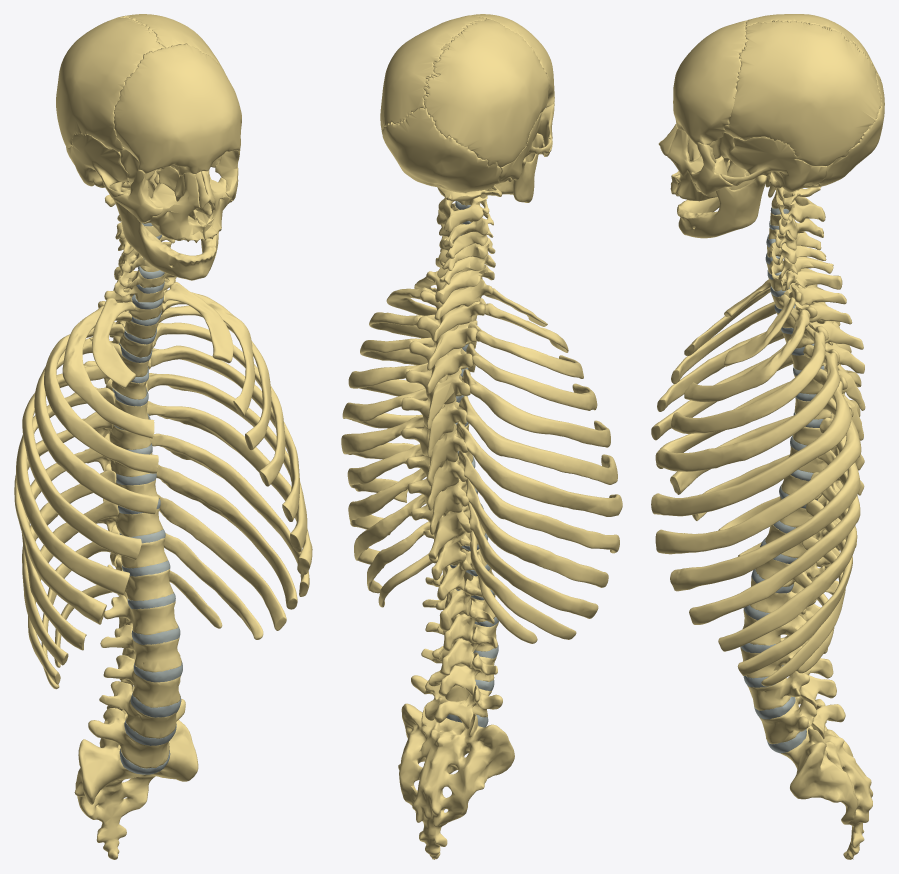
3 renders of one model, left to right at view 1: azimuth 30°, elevation 25°; view 2: azimuth 150°, elevation 25°; view 3: azimuth 270°, elevation 25°, orthographic. The views are drawn at different scales.
Parts seen in each view (by area): view 1: head-neck:frontal-bone:isa:FJ3200, head-neck:parietal-bone:isa:FJ3380, spine-trunk:sacrum:isa:FJ3393, spine-trunk:sixth-rib:isa:FJ3344, spine-trunk:fourth-rib:isa:FJ3340, spine-trunk:fifth-rib:isa:FJ3342, spine-trunk:third-rib:isa:FJ3338, spine-trunk:second-rib:isa:FJ3336, head-neck:mandible:isa:FJ3289, spine-trunk:ninth-rib:isa:FJ3236, spine-trunk:seventh-rib:isa:FJ3234, spine-trunk:seventh-rib:isa:FJ3346 (+34 smaller); view 2: head-neck:parietal-bone:isa:FJ3380, spine-trunk:sacrum:isa:FJ3393, head-neck:occiput:isa:FJ3309, head-neck:parietal-bone:isa:FJ3274, spine-trunk:seventh-rib:isa:FJ3346, spine-trunk:sixth-rib:isa:FJ3344, spine-trunk:eighth-rib:isa:FJ3347, spine-trunk:ninth-rib:isa:FJ3348, spine-trunk:fifth-rib:isa:FJ3342, spine-trunk:tenth-rib:isa:FJ3330, spine-trunk:fifth-lumbar-vertebra:isa:FJ3168, spine-trunk:fourth-rib:isa:FJ3340 (+40 smaller); view 3: head-neck:parietal-bone:isa:FJ3274, head-neck:frontal-bone:isa:FJ3200, spine-trunk:sacrum:isa:FJ3393, spine-trunk:sixth-rib:isa:FJ3233, spine-trunk:fifth-rib:isa:FJ3232, spine-trunk:seventh-rib:isa:FJ3234, spine-trunk:fourth-rib:isa:FJ3231, spine-trunk:eighth-rib:isa:FJ3235, head-neck:temporal-bone:isa:FJ3281, head-neck:mandible:isa:FJ3289, spine-trunk:third-rib:isa:FJ3230, spine-trunk:ninth-rib:isa:FJ3236 (+38 smaller).
Boxes of the visible parts, left/top/right/bottom form: head-neck:frontal-bone:isa:FJ3200: left=114, top=44, right=241, bottom=176; head-neck:parietal-bone:isa:FJ3380: left=56, top=16, right=164, bottom=151; spine-trunk:sacrum:isa:FJ3393: left=74, top=720, right=198, bottom=859; spine-trunk:sixth-rib:isa:FJ3344: left=16, top=387, right=129, bottom=595; spine-trunk:fourth-rib:isa:FJ3340: left=34, top=338, right=158, bottom=514; spine-trunk:fifth-rib:isa:FJ3342: left=22, top=365, right=141, bottom=560; spine-trunk:third-rib:isa:FJ3338: left=44, top=324, right=158, bottom=473; spine-trunk:second-rib:isa:FJ3336: left=62, top=306, right=154, bottom=438; head-neck:mandible:isa:FJ3289: left=109, top=175, right=218, bottom=280; spine-trunk:ninth-rib:isa:FJ3236: left=156, top=464, right=297, bottom=609; spine-trunk:seventh-rib:isa:FJ3234: left=147, top=401, right=312, bottom=574; spine-trunk:seventh-rib:isa:FJ3346: left=14, top=412, right=113, bottom=624; head-neck:parietal-bone:isa:FJ3380: left=423, top=19, right=549, bottom=167; spine-trunk:sacrum:isa:FJ3393: left=398, top=703, right=514, bottom=859; head-neck:occiput:isa:FJ3309: left=382, top=108, right=501, bottom=192; head-neck:parietal-bone:isa:FJ3274: left=380, top=15, right=485, bottom=133; spine-trunk:seventh-rib:isa:FJ3346: left=456, top=421, right=622, bottom=516; spine-trunk:sixth-rib:isa:FJ3344: left=459, top=396, right=617, bottom=484; spine-trunk:eighth-rib:isa:FJ3347: left=458, top=450, right=619, bottom=553; spine-trunk:ninth-rib:isa:FJ3348: left=465, top=478, right=608, bottom=587; spine-trunk:fifth-rib:isa:FJ3342: left=462, top=369, right=610, bottom=447; spine-trunk:tenth-rib:isa:FJ3330: left=468, top=502, right=598, bottom=618; spine-trunk:fifth-lumbar-vertebra:isa:FJ3168: left=411, top=675, right=502, bottom=729; spine-trunk:fourth-rib:isa:FJ3340: left=466, top=343, right=597, bottom=410; head-neck:parietal-bone:isa:FJ3274: left=724, top=20, right=881, bottom=166; head-neck:frontal-bone:isa:FJ3200: left=673, top=20, right=748, bottom=144; spine-trunk:sacrum:isa:FJ3393: left=780, top=699, right=872, bottom=859; spine-trunk:sixth-rib:isa:FJ3233: left=655, top=398, right=861, bottom=554; spine-trunk:fifth-rib:isa:FJ3232: left=651, top=368, right=851, bottom=516; spine-trunk:seventh-rib:isa:FJ3234: left=670, top=417, right=860, bottom=591; spine-trunk:fourth-rib:isa:FJ3231: left=657, top=344, right=840, bottom=471; spine-trunk:eighth-rib:isa:FJ3235: left=689, top=450, right=860, bottom=624; head-neck:temporal-bone:isa:FJ3281: left=720, top=136, right=827, bottom=197; head-neck:mandible:isa:FJ3289: left=677, top=171, right=767, bottom=238; spine-trunk:third-rib:isa:FJ3230: left=671, top=325, right=825, bottom=433; spine-trunk:ninth-rib:isa:FJ3236: left=718, top=472, right=857, bottom=651.
Bounding box in the file's own units: 0.2729 × 0.8534 × 0.2157.
